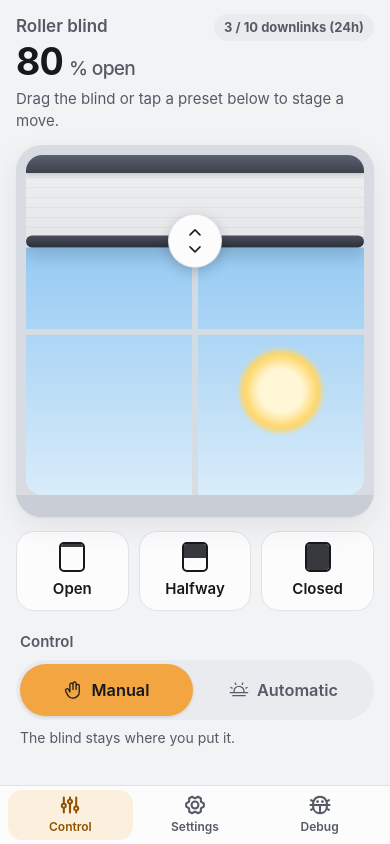
Test: HomePage and SettingsPage › displays % open in UI while sending wire % closed in POST /position
The width and height of the screenshot is (390, 844).
Later steps or results of the test are not shown.
Expected: the text "3 / 10 downlinks (24h)" is shown, [224,18,364,37]
Expected: the text "80" is shown, [16,39,63,84]
Click the button with aria-label "Open fully" at (72, 571), box [16,531,129,611]
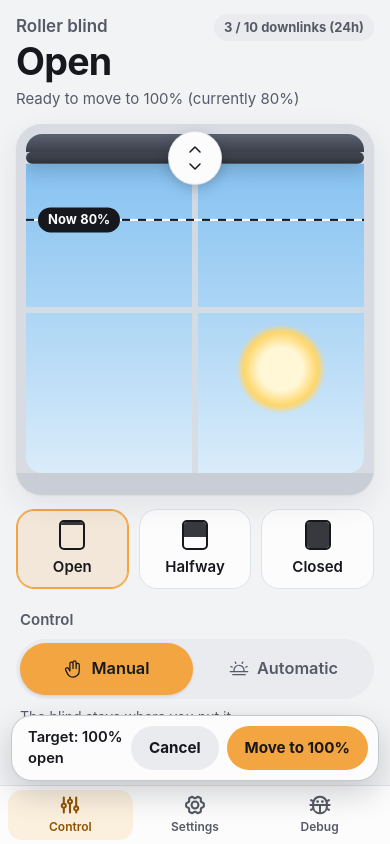
Now the text "Target: 100% open" is shown, box [28,727,123,769]
Click the button "Move to 100%" at (297, 748), box [226,726,368,770]
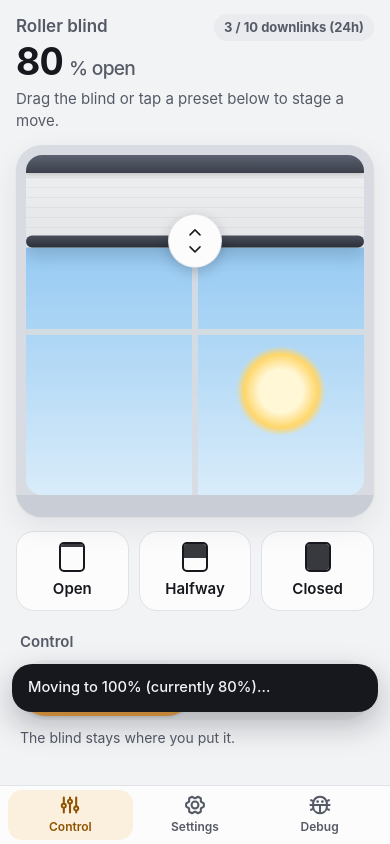
Click the button with aria-label "Close fully" at (318, 571), box [261,531,374,611]
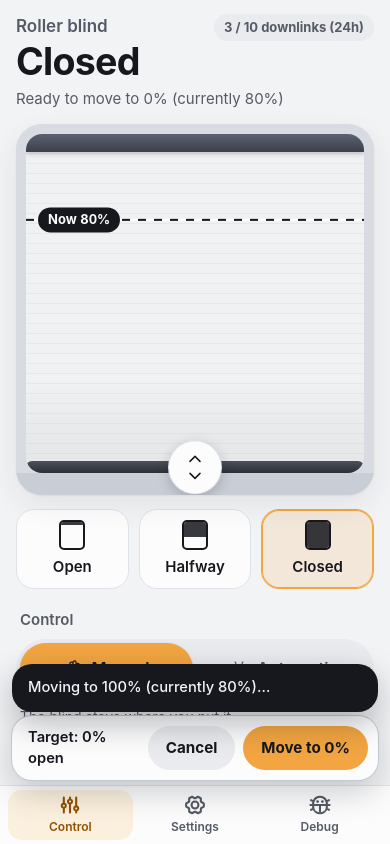
Now the text "Target: 0% open" is shown, box [28,728,107,767]
Click the button "Move to 0%" at (306, 748), box [243,726,368,770]
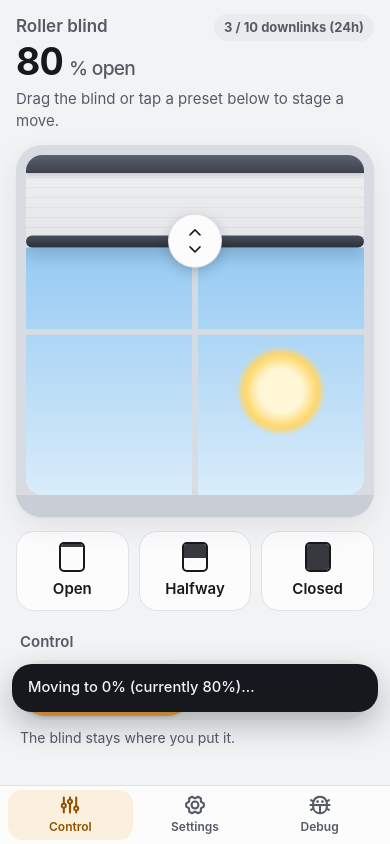
Click the button with aria-label "Move halfway" at (195, 571), box [139,531,251,611]
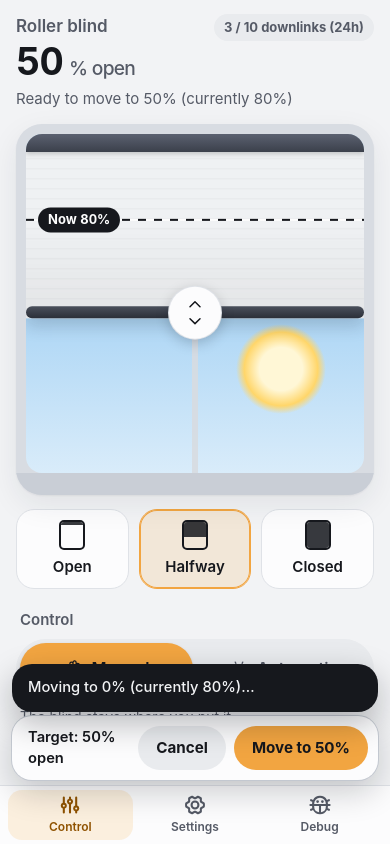
Now the text "Target: 50% open" is shown, box [28,727,130,769]
